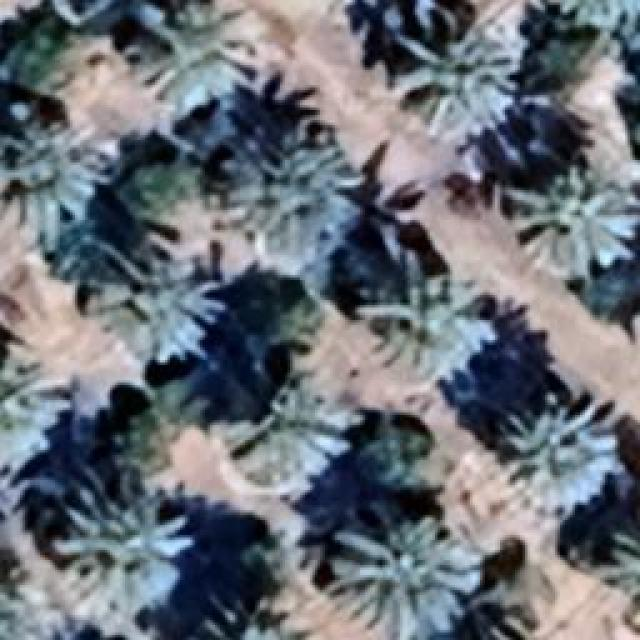PalmTree: (82, 14, 592, 103), (52, 475, 192, 625), (220, 122, 362, 268), (328, 504, 480, 638), (492, 384, 618, 518), (355, 258, 490, 380), (28, 103, 82, 405), (88, 248, 222, 368), (128, 0, 262, 118), (500, 170, 635, 285), (390, 29, 520, 142), (214, 269, 319, 377), (234, 378, 346, 474), (4, 112, 94, 228), (526, 0, 632, 88), (350, 1, 470, 59), (0, 29, 70, 119), (469, 556, 536, 640), (598, 515, 638, 635), (192, 608, 318, 638), (0, 564, 43, 640)
